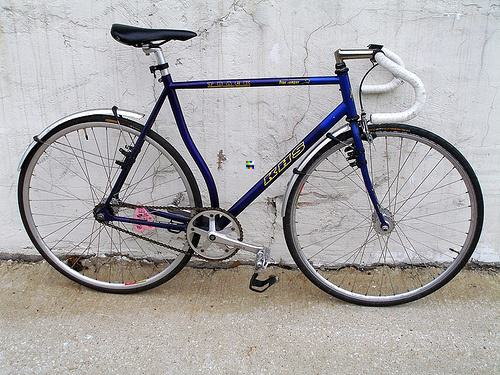car: (16, 23, 485, 307)
